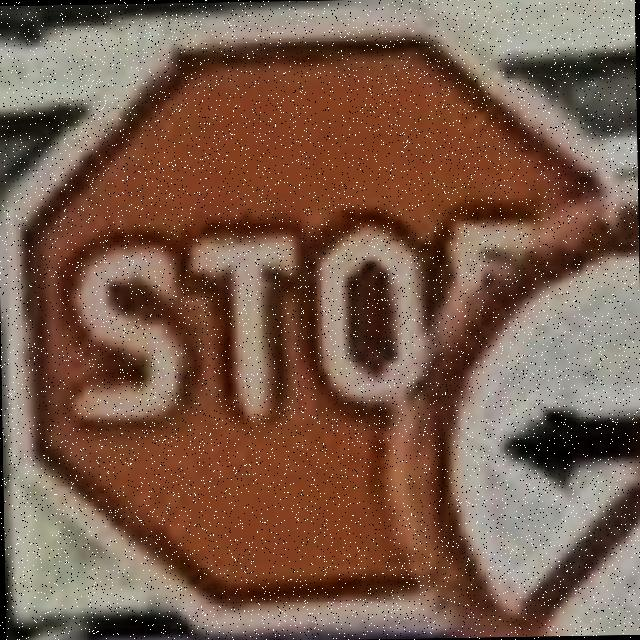Stop: (1, 18, 628, 636)
